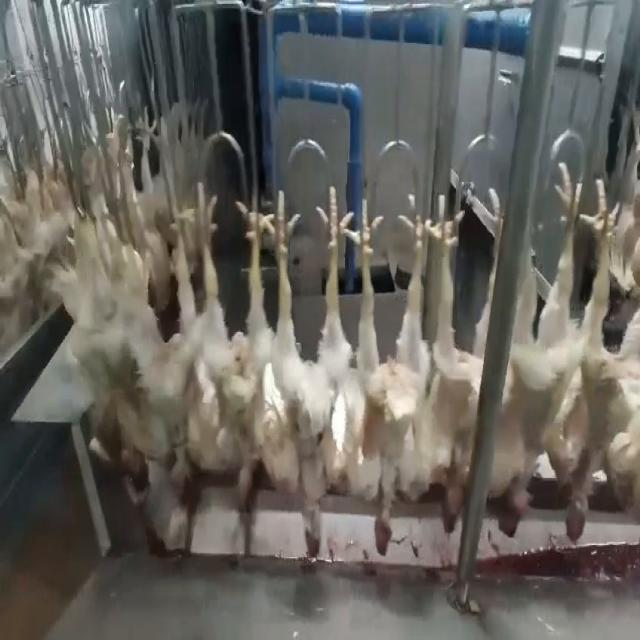chicken: (184, 179, 278, 531), (497, 148, 580, 541), (277, 186, 353, 561), (427, 177, 507, 533), (109, 192, 188, 520), (364, 195, 434, 565), (574, 169, 634, 547)
